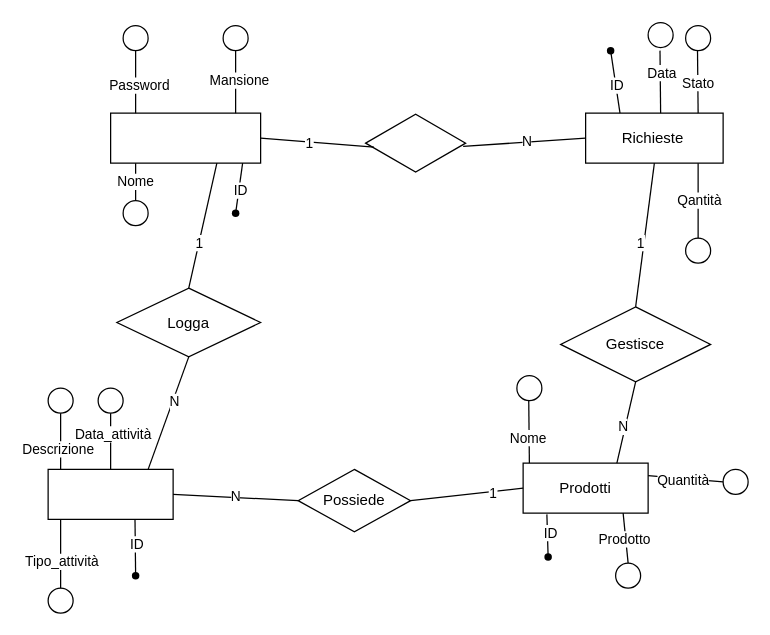
Some shapes in this 770 by 635 pixel diagram are drawn without their labels. The centre of each missing label's shape, as x and y in pixels:
"Effettua" goes at point (415, 142).
"TracciatoAttivtà" goes at point (110, 493).
"Utenti" goes at point (185, 137).
